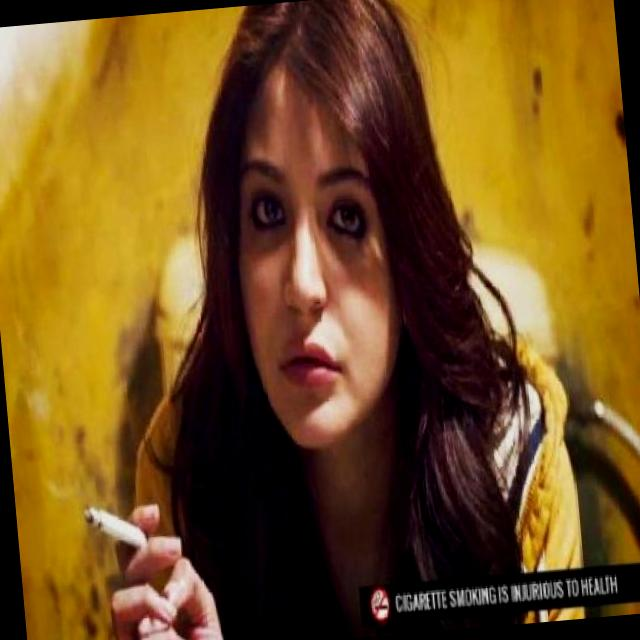smoke: (79, 491, 228, 640)
